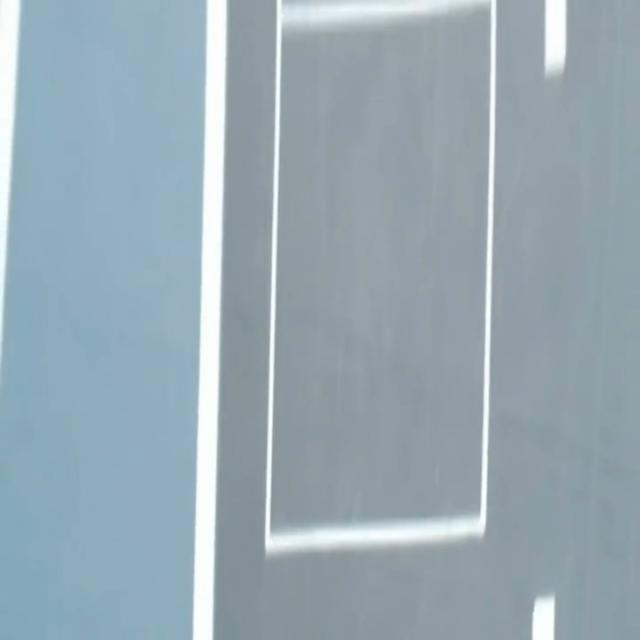center: (544, 0, 566, 76), (532, 596, 554, 639)
left: (193, 0, 227, 639)
